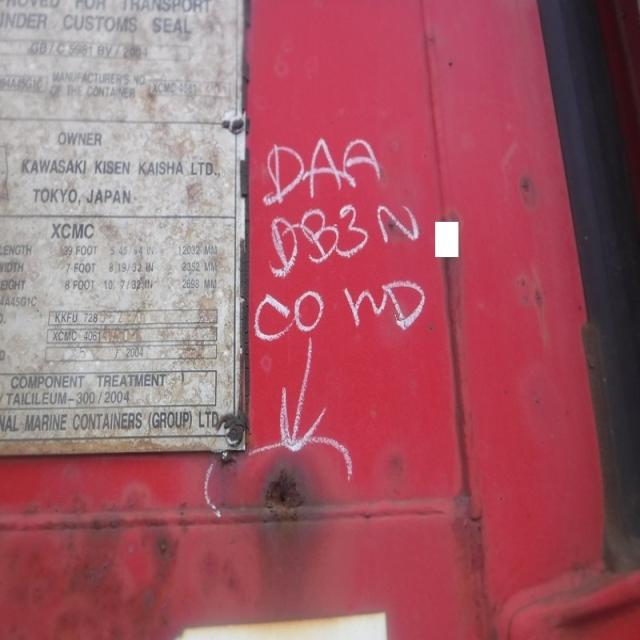hole: (264, 472, 304, 525)
